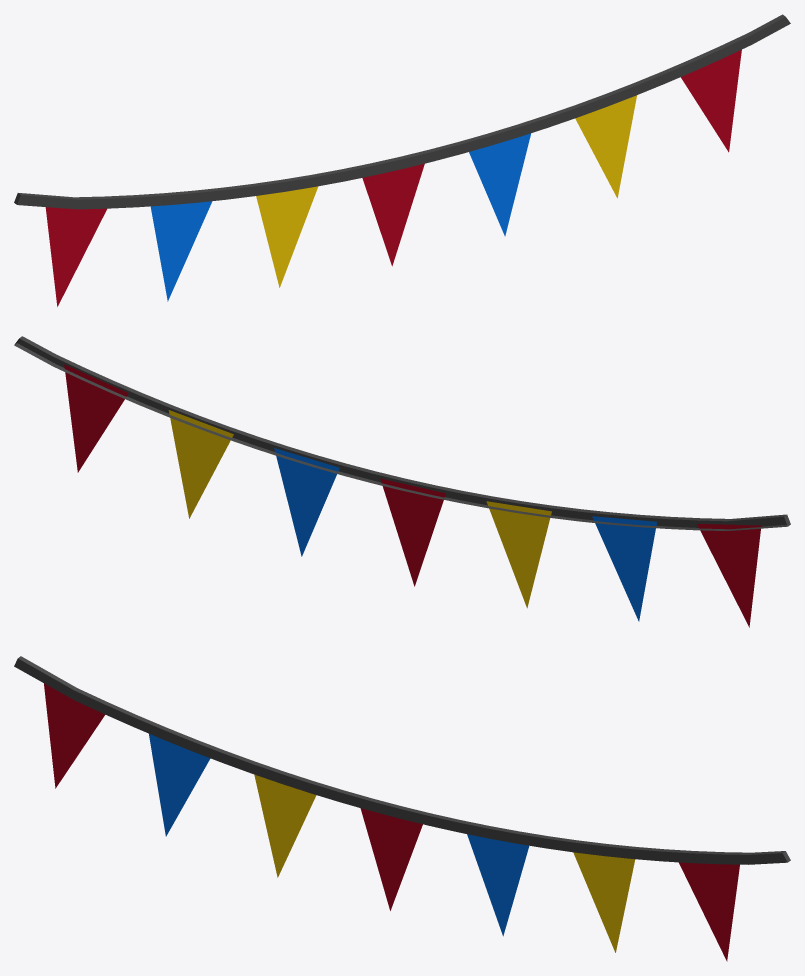
The model's file is Papers on wall.fbx.
3 renders of one model, top to bottom at view 1: azimuth 30°, elevation 25°; view 2: azimuth 150°, elevation 25°; view 3: azimuth 330°, elevation 25°, orthographic.
Visible parts, largest first — view 1: Papers; view 2: Papers; view 3: Papers.
Part boxes in pixels (left/top/right/bottom): Papers: left=14, top=14, right=790, bottom=306; Papers: left=14, top=336, right=790, bottom=627; Papers: left=14, top=656, right=790, bottom=961.
Size of the model in its own units: 325 by 65.39 by 2.3.
